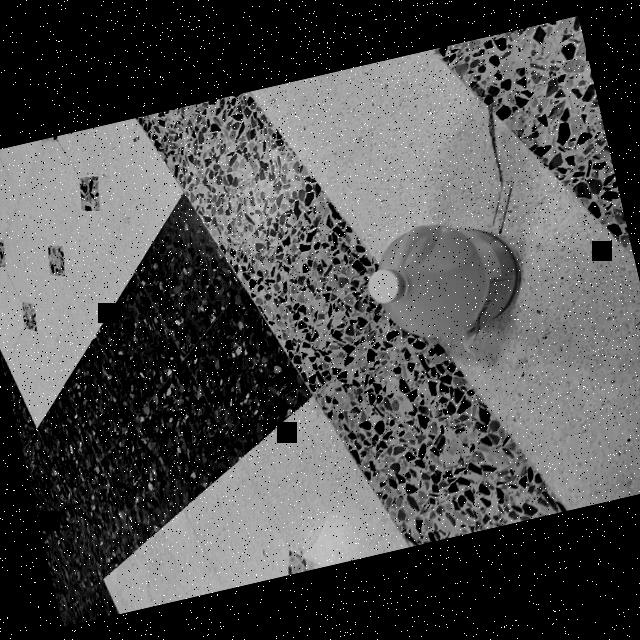chemical_plastic_gallon: (344, 203, 546, 365)
